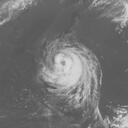cyclone: (41, 40, 100, 107)
